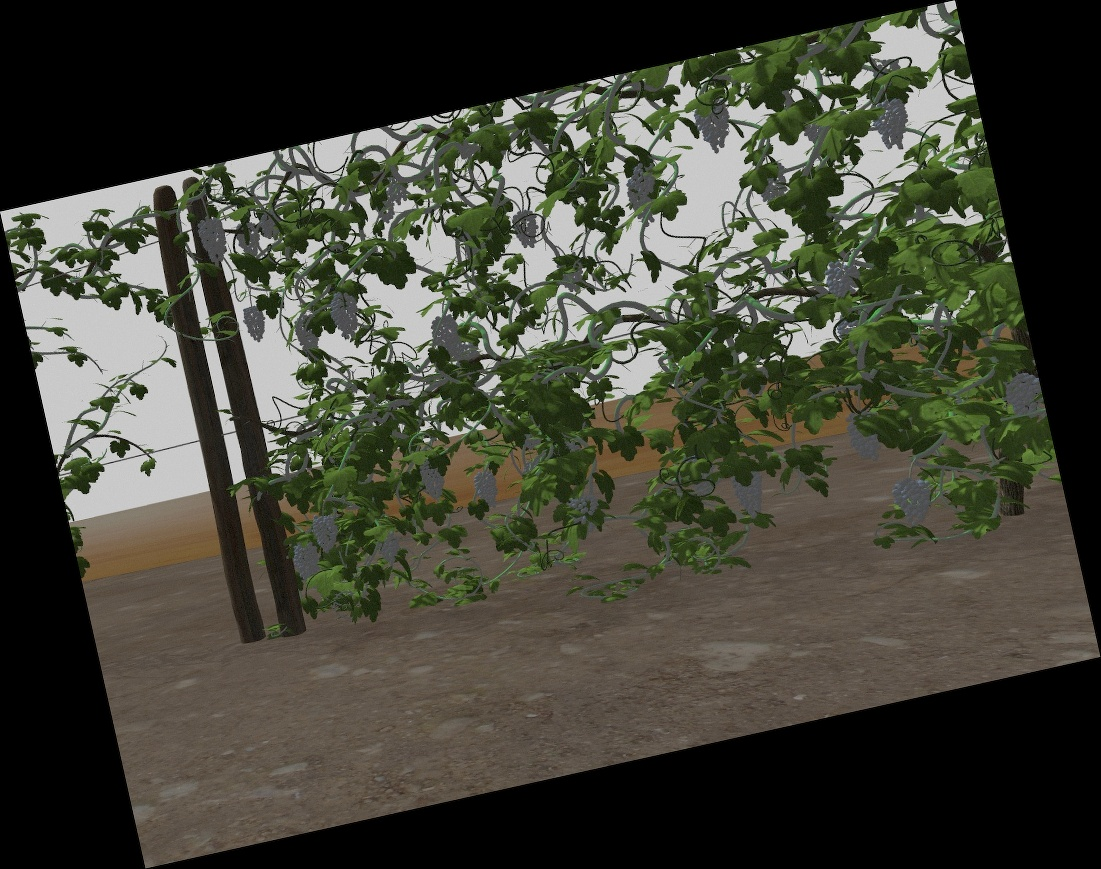grape: (893, 475, 933, 526), (876, 99, 911, 150), (698, 103, 732, 154), (847, 411, 879, 463), (733, 471, 766, 519), (1006, 374, 1041, 418), (200, 214, 227, 269), (331, 292, 359, 338), (823, 260, 860, 294), (512, 209, 541, 248), (313, 514, 340, 553), (420, 459, 446, 499), (628, 187, 654, 227), (292, 544, 320, 581), (433, 316, 460, 354), (474, 470, 499, 509), (295, 317, 320, 352), (244, 304, 267, 342), (236, 222, 260, 258), (377, 531, 401, 564), (631, 166, 656, 194), (572, 493, 600, 516), (260, 210, 282, 238), (389, 176, 407, 204)
